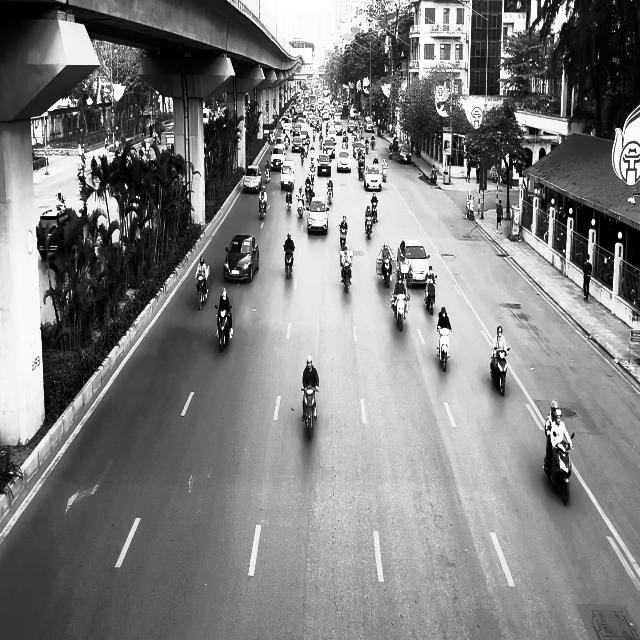car: (223, 234, 260, 282), (397, 239, 430, 287), (308, 196, 330, 233), (243, 164, 262, 192), (364, 163, 382, 191), (280, 160, 296, 190), (337, 149, 351, 172), (398, 144, 412, 164)
motorbike: (543, 423, 575, 505), (490, 347, 510, 396), (301, 385, 319, 439), (215, 304, 233, 352), (391, 292, 409, 330), (437, 326, 452, 371), (424, 275, 438, 314), (378, 255, 392, 287), (284, 246, 294, 278), (365, 214, 374, 239), (297, 193, 305, 218), (339, 226, 347, 249), (371, 198, 378, 223), (259, 197, 266, 219), (286, 191, 292, 211)
